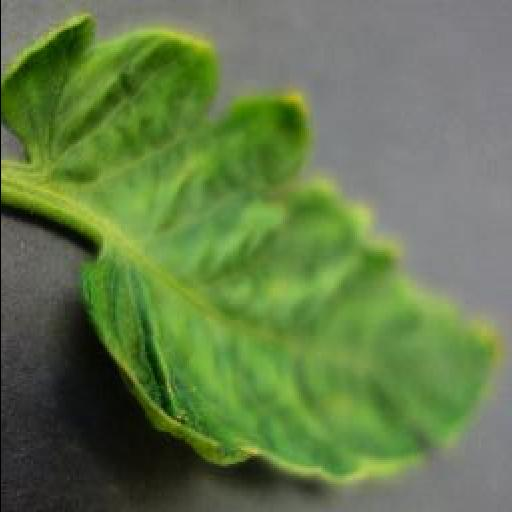disease_tomato: (0, 18, 502, 486)
